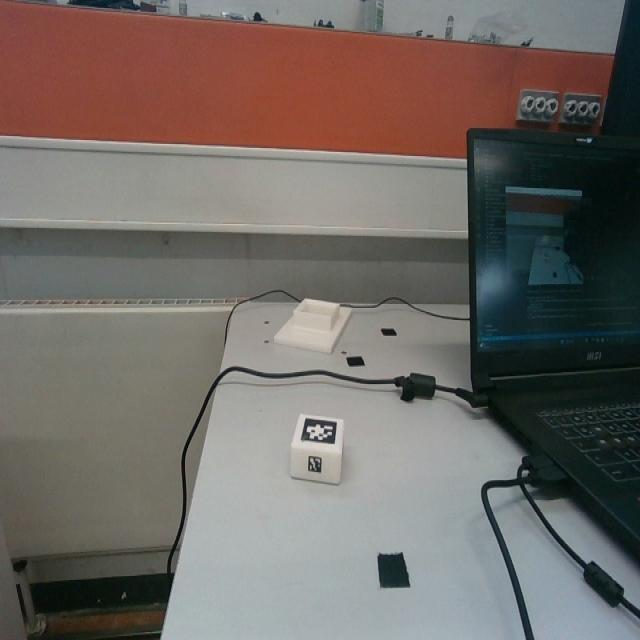Cube: (288, 410, 344, 486)
